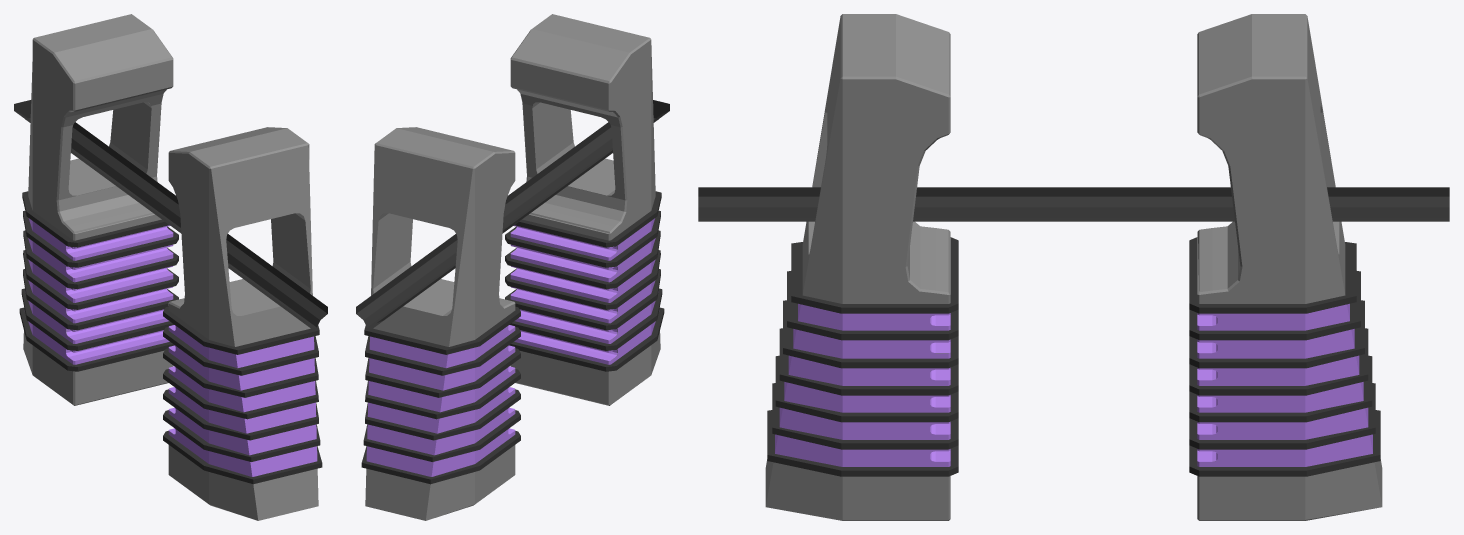
The model's file is башня рома_2.fbx.
The picture shows the model from 3 angles, left to right: view 1: azimuth 30°, elevation 25°; view 2: azimuth 150°, elevation 25°; view 3: azimuth 270°, elevation 25°; orthographic projection. The views are drawn at different scales.
Visible parts, largest first — view 1: Cube.002, Cube, Cube.001, Cube.003, Cube.004; view 2: Cube, Cube.002, Cube.003, Cube.001, Cube.004; view 3: Cube.002, Cube, Cube.004, Cube.001, Cube.003.
Part boxes in pixels (bbox=[...]): Cube.002: bbox=[168, 127, 318, 520]; Cube: bbox=[23, 14, 173, 405]; Cube.001: bbox=[19, 191, 178, 371]; Cube.003: bbox=[163, 306, 322, 484]; Cube.004: bbox=[14, 100, 327, 328]; Cube: bbox=[365, 127, 515, 520]; Cube.002: bbox=[510, 14, 660, 405]; Cube.003: bbox=[505, 191, 664, 371]; Cube.001: bbox=[361, 306, 520, 484]; Cube.004: bbox=[356, 100, 669, 328]; Cube.002: bbox=[765, 14, 950, 520]; Cube: bbox=[1197, 14, 1382, 520]; Cube.004: bbox=[698, 187, 1449, 221]; Cube.001: bbox=[1189, 237, 1380, 476]; Cube.003: bbox=[767, 237, 958, 476].
Size of the model in its own units: 8.14 by 23.63 by 36.21.
